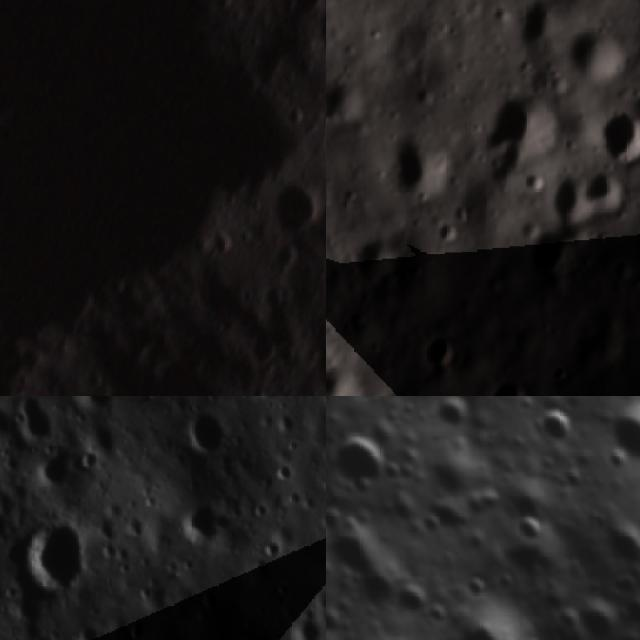crater: (326, 405, 404, 510), (419, 582, 557, 640), (11, 513, 92, 599), (487, 93, 561, 174), (579, 396, 640, 486), (382, 567, 449, 634), (524, 396, 590, 462), (261, 177, 326, 244), (562, 21, 628, 86), (389, 129, 444, 201), (522, 223, 582, 280), (502, 496, 560, 554), (506, 0, 567, 52), (419, 396, 485, 443), (180, 406, 234, 460), (346, 228, 401, 279), (176, 499, 230, 546), (597, 104, 640, 163), (9, 396, 62, 443), (31, 447, 84, 491), (546, 173, 590, 224), (326, 73, 368, 126), (582, 168, 623, 216), (326, 355, 366, 396), (426, 334, 460, 371), (306, 0, 326, 61), (292, 606, 326, 640), (489, 376, 538, 396), (429, 218, 461, 246), (256, 534, 285, 562), (407, 256, 431, 284), (609, 255, 633, 282), (553, 361, 571, 389), (633, 259, 640, 287)
